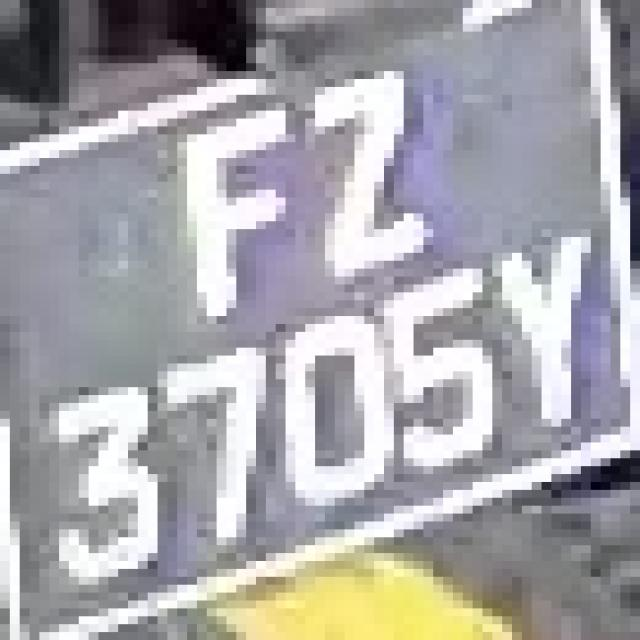0: (266, 300, 394, 506)
3: (29, 364, 168, 608)
5: (374, 245, 512, 482)
7: (128, 332, 266, 569)
F: (157, 79, 296, 332)
Y: (482, 222, 610, 442)
Z: (256, 64, 433, 292)
